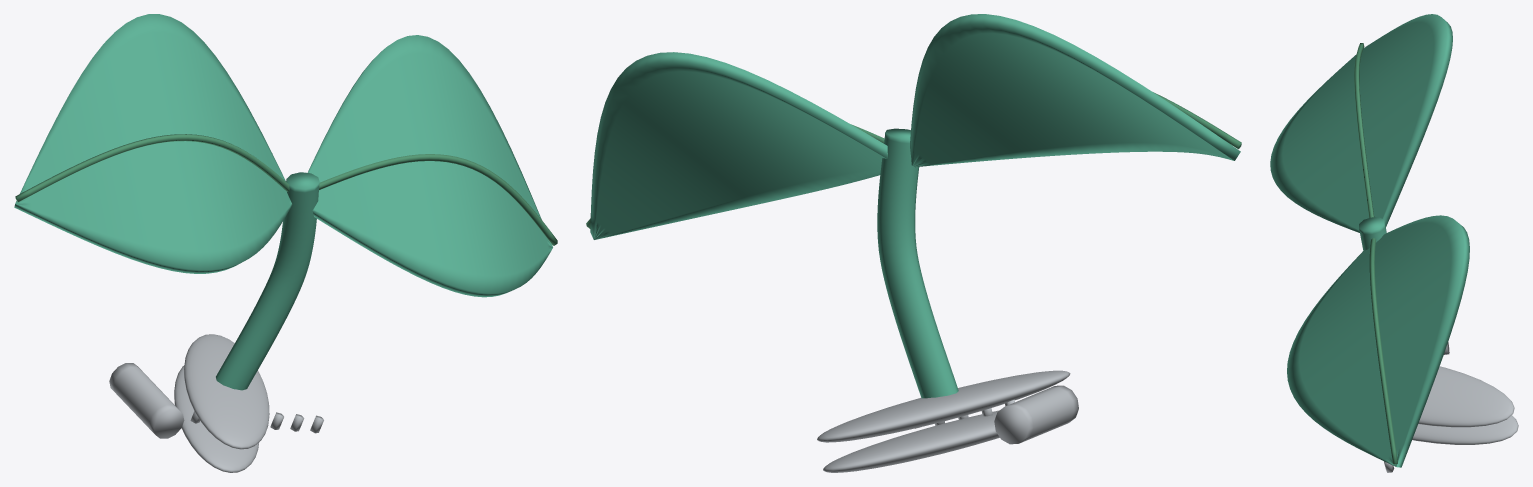
Rendered from Feminine-straight-none260-sprout.glb.
The picture shows the model from 3 angles, left to right: view 1: azimuth 30°, elevation 25°; view 2: azimuth 150°, elevation 25°; view 3: azimuth 270°, elevation 25°; orthographic projection. The views are drawn at different scales.
Visible parts, largest first — view 1: 226 extra / Accessory / mint226, 226 extra / Sprout / clip silver235, 226 extra / Sprout / leaf vein235; view 2: 226 extra / Accessory / mint226, 226 extra / Sprout / clip silver235, 226 extra / Sprout / leaf vein235; view 3: 226 extra / Accessory / mint226, 226 extra / Sprout / clip silver235, 226 extra / Sprout / leaf vein235.
Part boxes in pixels (box(x1,y1,x2,y2)): 226 extra / Accessory / mint226: box(14, 14, 552, 390); 226 extra / Sprout / clip silver235: box(109, 334, 323, 472); 226 extra / Sprout / leaf vein235: box(15, 134, 557, 245); 226 extra / Accessory / mint226: box(590, 14, 1240, 398); 226 extra / Sprout / clip silver235: box(817, 370, 1078, 472); 226 extra / Sprout / leaf vein235: box(586, 92, 1241, 228); 226 extra / Accessory / mint226: box(1270, 14, 1469, 467); 226 extra / Sprout / clip silver235: box(1384, 342, 1518, 472); 226 extra / Sprout / leaf vein235: box(1354, 43, 1397, 464).
Bounding box in the file's own units: 0.2578 × 0.1884 × 0.1099.
